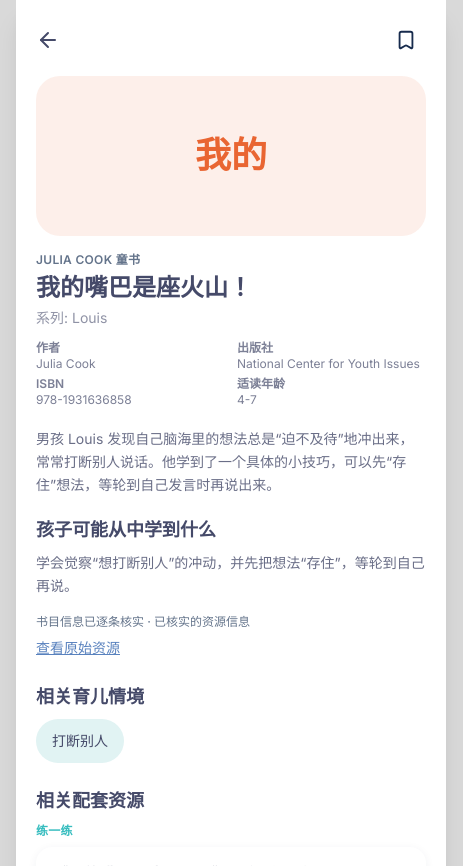
it: BookDetail page › links the book to its related parenting situation and navigates there on click
Click the button "打断别人": (80, 741) [36,719,124,763]
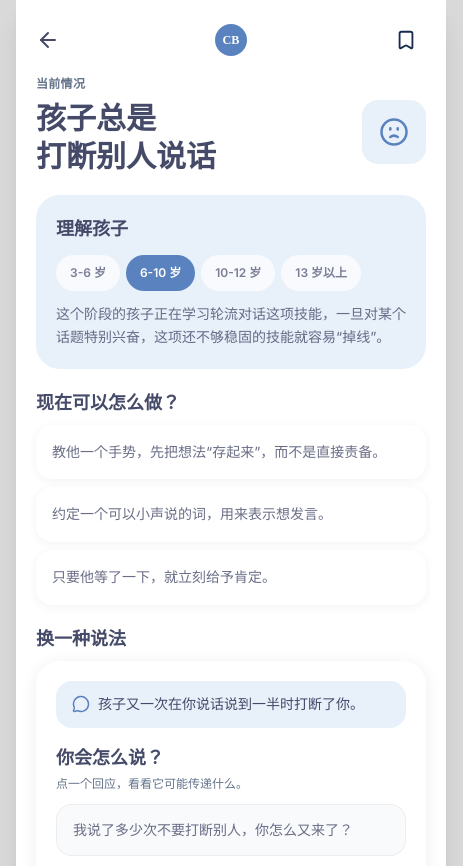
expect the text "当前情况" is shown: met, box [36,76,85,91]
